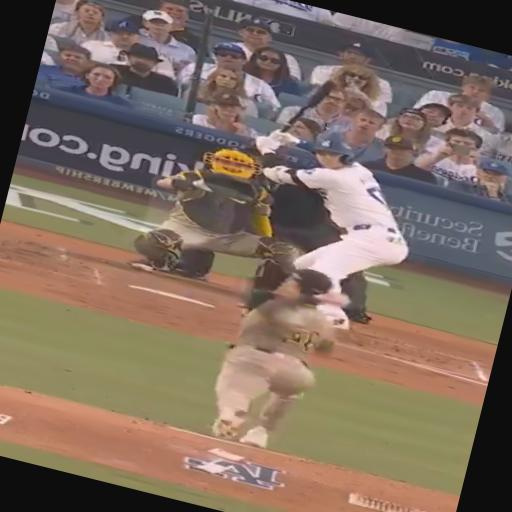bat: (281, 80, 334, 132)
